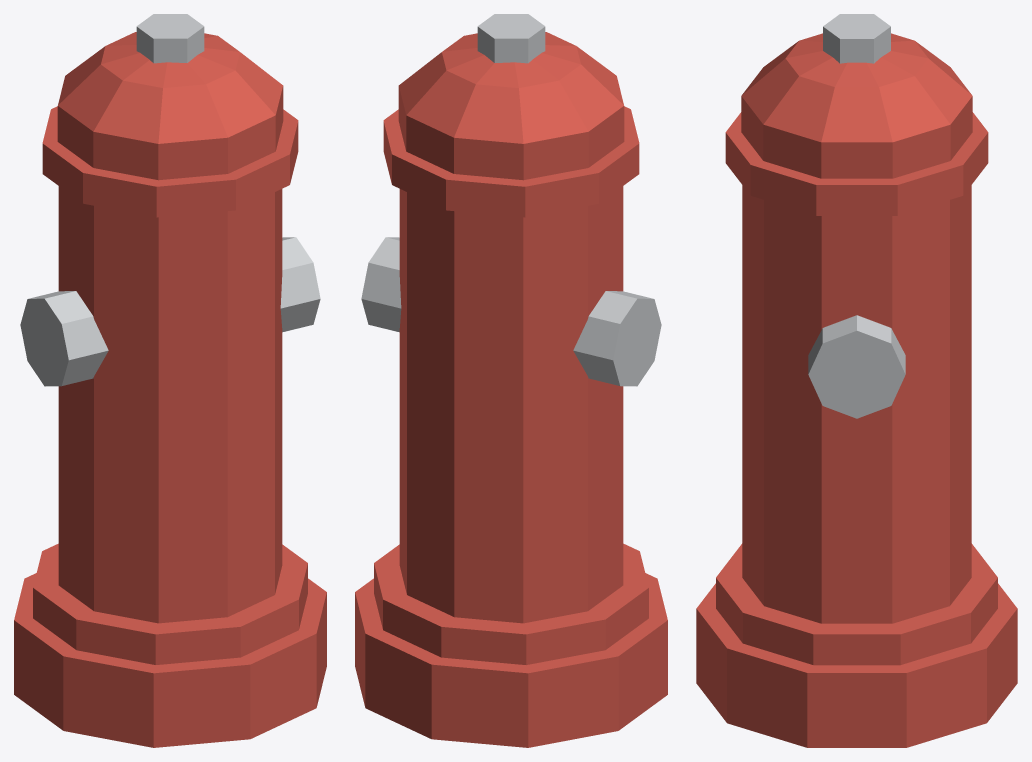
The model's file is hydrant.glb.
3 renders of one model, left to right at view 1: azimuth 30°, elevation 25°; view 2: azimuth 150°, elevation 25°; view 3: azimuth 270°, elevation 25°, orthographic.
Parts seen in each view (by area): view 1: hydrant; view 2: hydrant; view 3: hydrant.
Part boxes in pixels (left/top/right/bottom): hydrant: left=14, top=14, right=326, bottom=747; hydrant: left=355, top=14, right=667, bottom=747; hydrant: left=696, top=14, right=1017, bottom=747.
Size of the model in its own units: 0.3138 by 0.745 by 0.33.
